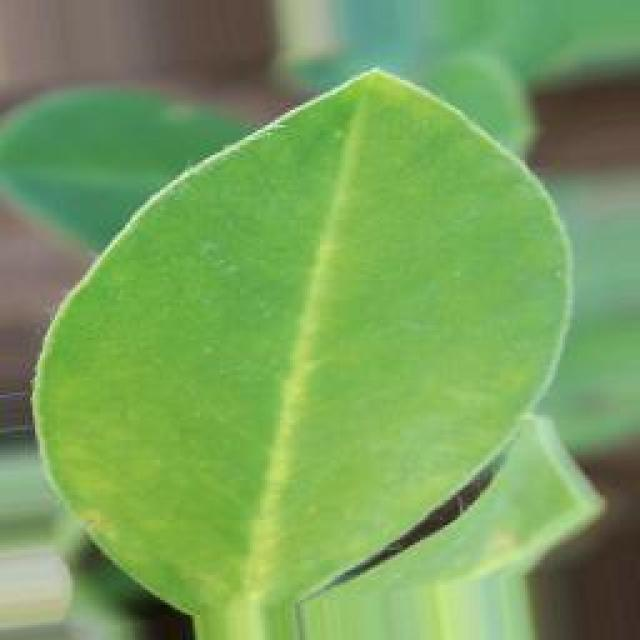Yellow_and_black_sigatoka: (21, 59, 578, 601)
